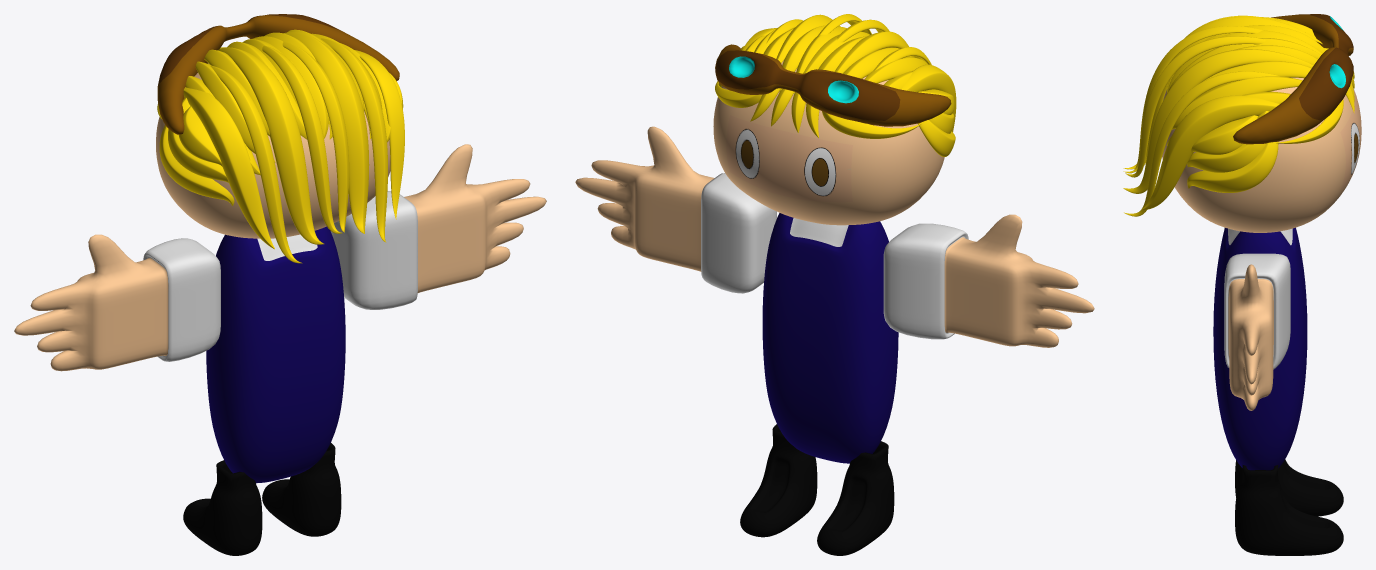
The model's file is Chibi_Inventora.fbx.
3 views of the same model, side by side, from view 1: azimuth 30°, elevation 25°; view 2: azimuth 150°, elevation 25°; view 3: azimuth 270°, elevation 25° (orthographic). The views are drawn at different scales.
Visible parts, largest first — view 1: Hands, NurbsPath.001, Body, Foot, Head, Cube; view 2: Hands, Body, Head, NurbsPath.001, Foot, Cube; view 3: NurbsPath.001, Body, Head, Hands, Foot, Cube.
Part boxes in pixels (<box>): Hands: <box>14,144,546,371</box>; NurbsPath.001: <box>157,29,404,263</box>; Body: <box>206,226,345,483</box>; Foot: <box>183,443,341,555</box>; Head: <box>156,63,390,238</box>; Cube: <box>157,14,399,134</box>; Hands: <box>575,126,1094,347</box>; Body: <box>762,213,898,463</box>; Head: <box>713,60,944,225</box>; NurbsPath.001: <box>715,14,956,157</box>; Foot: <box>740,424,894,555</box>; Cube: <box>715,44,951,126</box>; NurbsPath.001: <box>1123,15,1354,216</box>; Body: <box>1213,227,1307,470</box>; Head: <box>1162,77,1361,232</box>; Hands: <box>1224,227,1290,410</box>; Foot: <box>1235,459,1343,555</box>; Cube: <box>1233,14,1353,144</box>.
Size of the model in its own units: 330 by 128 by 298.
Materials: 9 (1 with a texture image).
